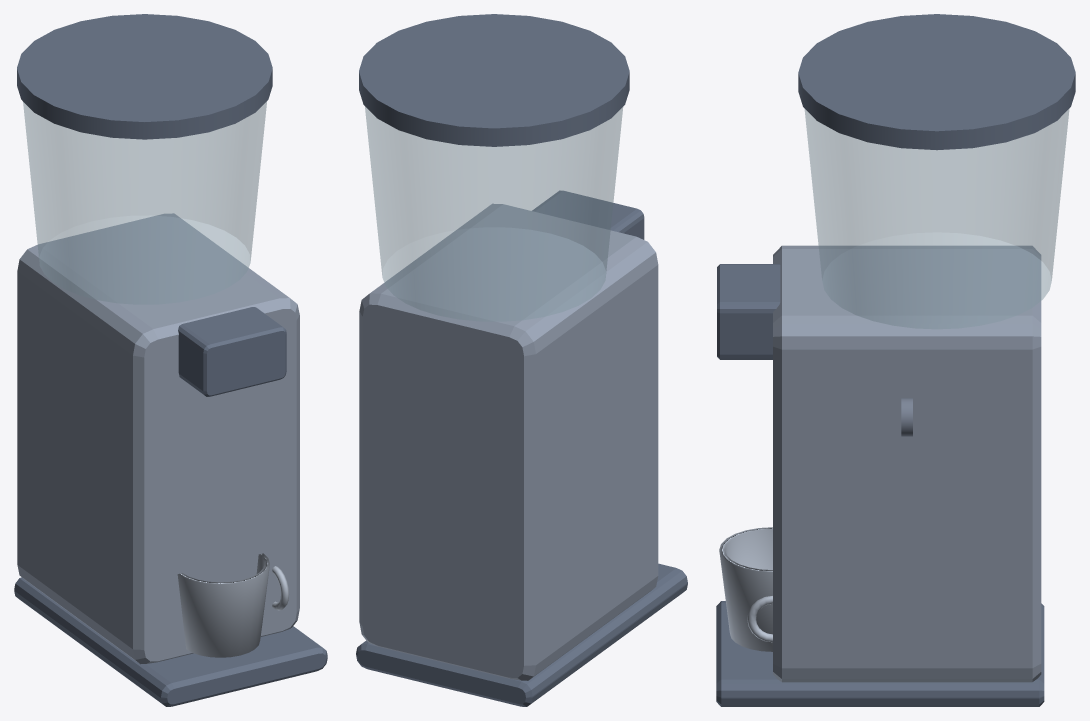
Rendered from coffee-grinder-lite.glb.
3 views of the same model, side by side, from view 1: azimuth 30°, elevation 25°; view 2: azimuth 150°, elevation 25°; view 3: azimuth 270°, elevation 25° (orthographic). The views are drawn at different scales.
Visible parts, largest first — view 1: body, dark, glass, soft; view 2: body, glass, dark; view 3: body, dark, glass, soft.
Boxes of the visible parts, x1,y1,x2,y2 form: body: (17,213,299,664); dark: (14,14,327,706); glass: (23,101,266,304); soft: (177,553,289,657); body: (359,203,658,680); glass: (365,106,623,321); dark: (356,14,687,706); body: (773,245,1041,682); dark: (716,14,1075,706); glass: (804,108,1069,329); soft: (719,527,772,651).
Size of the model in its own units: 0.186 by 0.4395 by 0.241.
